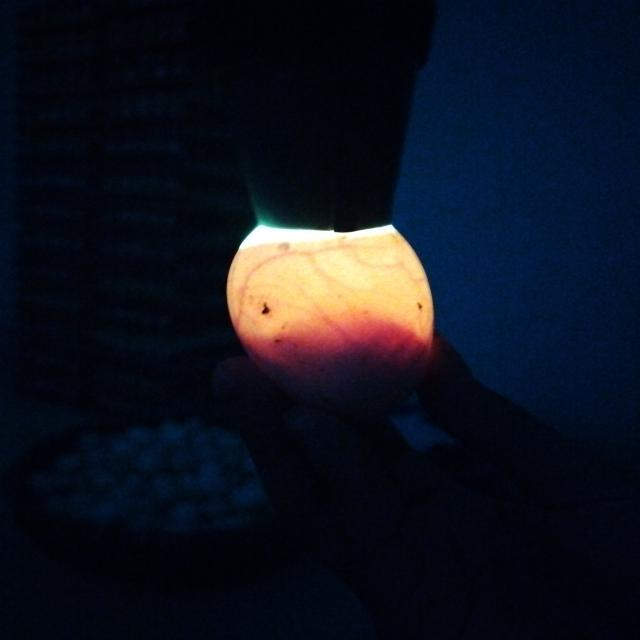Embriao: (243, 323, 435, 419)
